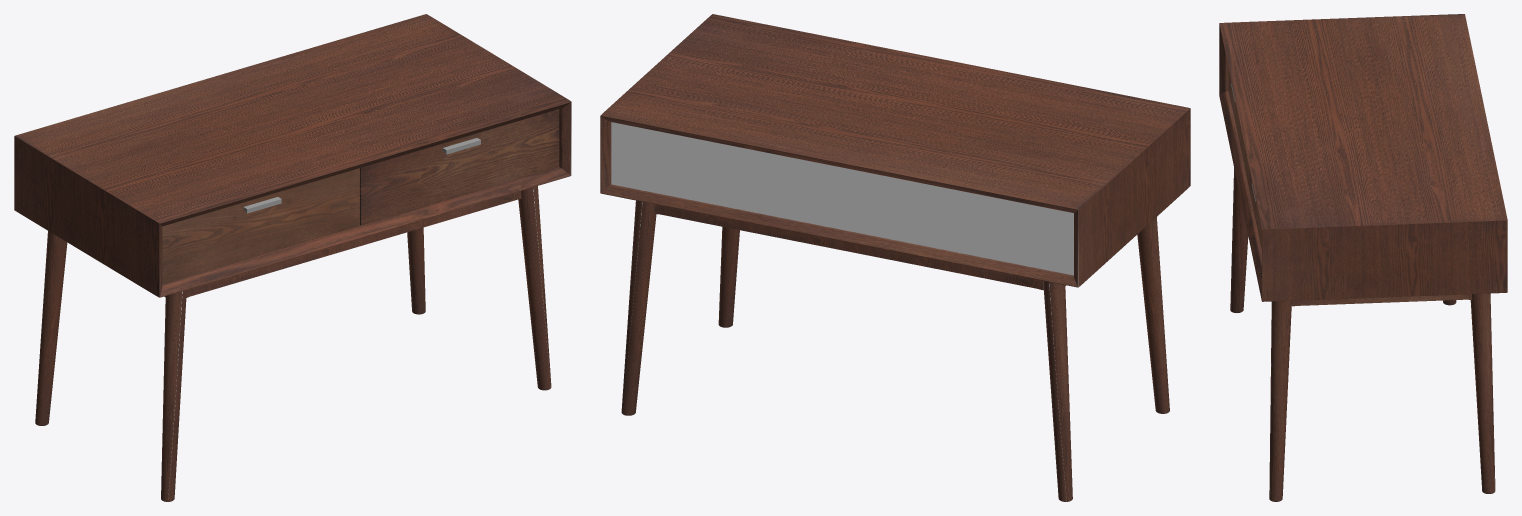
File: walnut.glb
3 views of the same model, side by side, from view 1: azimuth 30°, elevation 25°; view 2: azimuth 150°, elevation 25°; view 3: azimuth 270°, elevation 25° (orthographic). The views are drawn at different scales.
Parts seen in each view (by area): view 1: Rectangle001, Rectangle005, Rectangle004, Cylinder003, Cylinder006, Cylinder004, Line006, Cylinder005; view 2: Rectangle001, Rectangle002, Cylinder004, Cylinder005, Line007, Cylinder003, Cylinder006; view 3: Rectangle001, Cylinder006, Cylinder005, Cylinder003, Line004, Rectangle004.
Boxes of the visible parts, x1,y1,x2,y2 form: Rectangle001: (14, 14, 571, 297); Rectangle005: (360, 109, 559, 225); Rectangle004: (162, 168, 359, 284); Cylinder003: (161, 290, 186, 501); Cylinder006: (518, 186, 551, 390); Cylinder004: (35, 231, 67, 425); Line006: (186, 191, 521, 297); Cylinder005: (407, 227, 425, 314); Rectangle001: (600, 14, 1190, 287); Rectangle002: (611, 122, 1073, 275); Cylinder004: (1043, 280, 1072, 501); Cylinder005: (621, 200, 656, 415); Line007: (653, 204, 1043, 290); Cylinder003: (1137, 217, 1169, 413); Cylinder006: (718, 227, 739, 327); Rectangle001: (1219, 14, 1507, 301); Cylinder006: (1269, 301, 1291, 501); Cylinder005: (1470, 293, 1495, 493); Cylinder003: (1230, 168, 1248, 312); Line004: (1291, 294, 1472, 306); Rectangle004: (1228, 70, 1249, 188).
Bounding box in the file's own units: 1240 × 750 × 702.
Materials: 5 (3 with a texture image).
